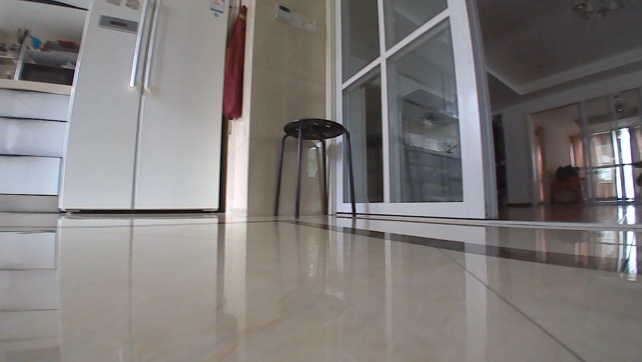cupboard: (0, 72, 74, 214)
refrigerator: (55, 0, 230, 215)
